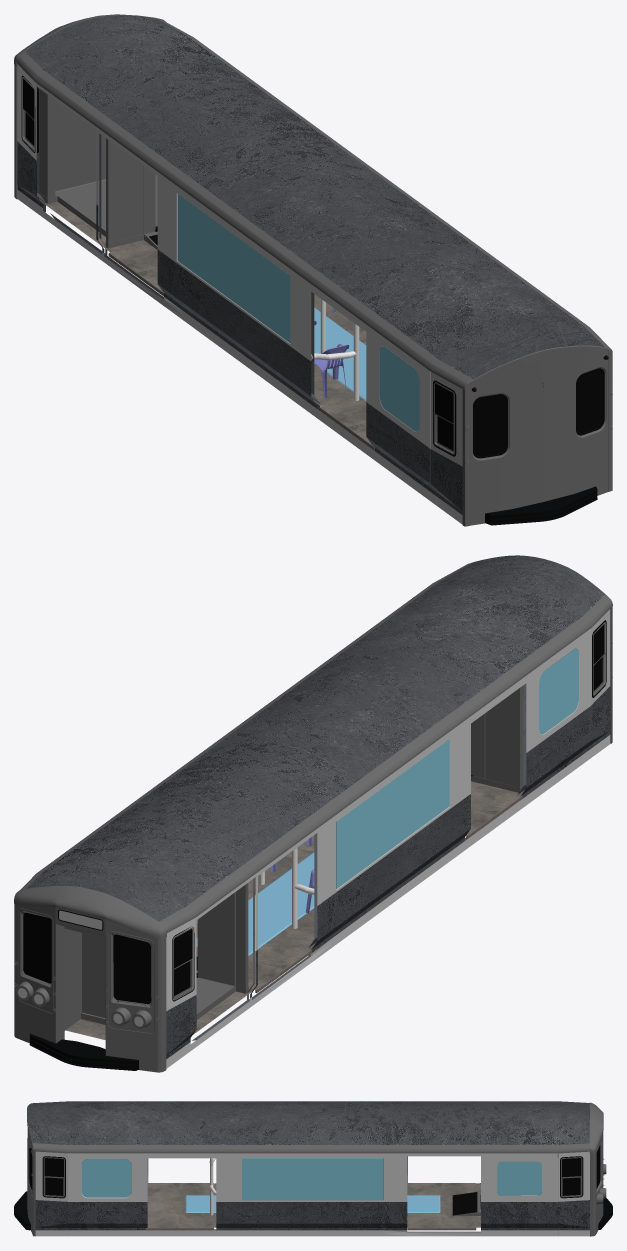
The model's file is VagonFix.fbx.
3 views of the same model, one above another, from view 1: azimuth 30°, elevation 25°; view 2: azimuth 150°, elevation 25°; view 3: azimuth 270°, elevation 25° (orthographic). The views are drawn at different scales.
Parts seen in each view (by area): view 1: TrainRoof004, TrainWall002, TrainRearFrame002, Freezer.005, Box017, TrainFloor002, Freezer.002, Box018, WindowFixedSmall002, TrainBumper002, FloorMat002, WindowFixedSmall.003 (+4 smaller); view 2: TrainRoof004, TrainWall002, TrainFrontFrame002, Box017, Freezer.002, TrainFloor002, Freezer002, WindowFront002, FloorMat002, WindowFront.003, Freezer.005, Box018 (+3 smaller); view 3: TrainRoof004, TrainWall.005, Box016, TrainFloor002, Box019, Box020, TrainFrontFrame002, FloorMat002, WindowSlidingSmall.007, WindowSlidingSmall.009, TrainRearFrame002, Freezer.005 (+4 smaller).
Boxes of the visible parts, left/top/right/bottom form: TrainRoof004: left=16, top=15, right=612, bottom=389; TrainWall002: left=17, top=64, right=462, bottom=524; TrainRearFrame002: left=462, top=347, right=612, bottom=526; Freezer.005: left=40, top=90, right=157, bottom=248; Box017: left=177, top=194, right=290, bottom=342; TrainFloor002: left=39, top=198, right=374, bottom=450; Freezer.002: left=40, top=89, right=157, bottom=249; Box018: left=379, top=346, right=419, bottom=431; WindowFixedSmall002: left=473, top=394, right=507, bottom=458; TrainBumper002: left=485, top=486, right=597, bottom=525; FloorMat002: left=314, top=307, right=366, bottom=400; WindowFixedSmall.003: left=576, top=368, right=604, bottom=435; TrainRoof004: left=20, top=555, right=612, bottom=932; TrainWall002: left=166, top=609, right=610, bottom=1068; TrainFrontFrame002: left=14, top=885, right=166, bottom=1072; Box017: left=336, top=739, right=449, bottom=888; Freezer.002: left=81, top=883, right=248, bottom=1024; TrainFloor002: left=65, top=781, right=523, bottom=1039; Freezer002: left=471, top=685, right=523, bottom=792; WindowFront002: left=109, top=931, right=154, bottom=1033; FloorMat002: left=196, top=852, right=314, bottom=955; WindowFront.003: left=18, top=908, right=53, bottom=1013; Freezer.005: left=64, top=885, right=248, bottom=1030; Box018: left=539, top=649, right=578, bottom=734; TrainRoof004: left=27, top=1101, right=589, bottom=1153; TrainWall.005: left=35, top=1151, right=589, bottom=1236; Box016: left=242, top=1158, right=383, bottom=1200; TrainFloor002: left=145, top=1183, right=480, bottom=1230; Box019: left=81, top=1159, right=131, bottom=1197; Box020: left=497, top=1161, right=541, bottom=1195; TrainFrontFrame002: left=589, top=1102, right=603, bottom=1236; FloorMat002: left=185, top=1195, right=440, bottom=1212; WindowSlidingSmall.007: left=560, top=1156, right=583, bottom=1198; WindowSlidingSmall.009: left=42, top=1156, right=65, bottom=1198; TrainRearFrame002: left=27, top=1125, right=35, bottom=1236; Freezer.005: left=452, top=1191, right=480, bottom=1215.
Bounding box in the file's own units: 117 × 113 × 607.
